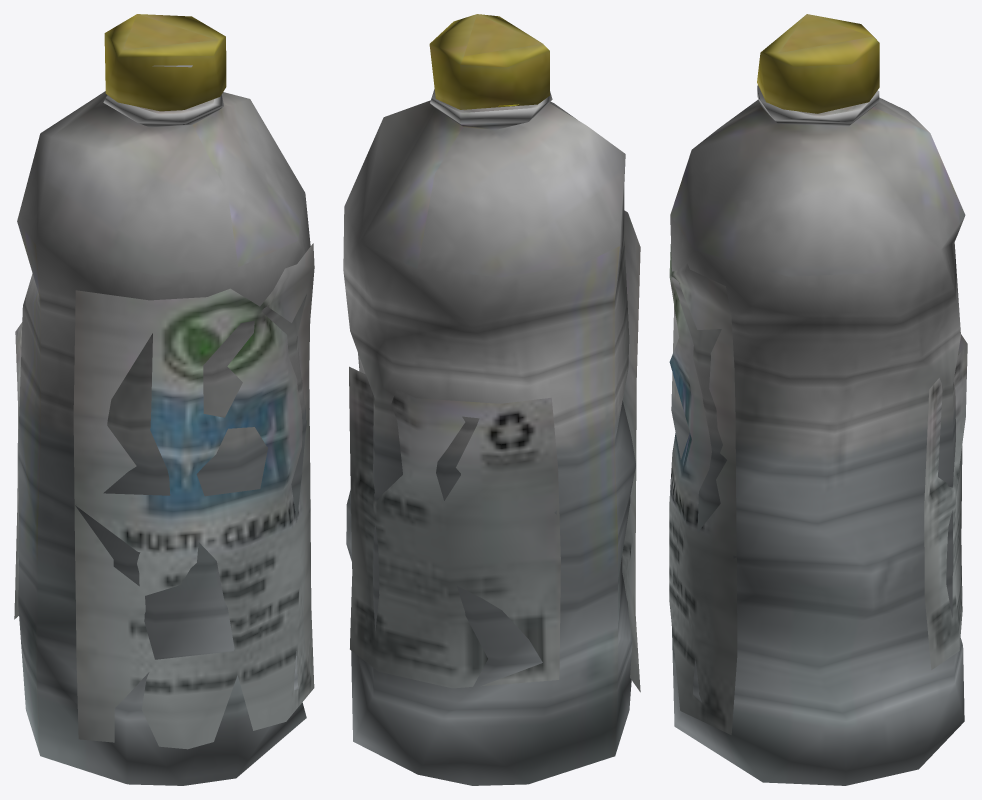
The model's file is multi_cleaner_bottle.glb.
The picture shows the model from 3 angles, left to right: view 1: azimuth 30°, elevation 25°; view 2: azimuth 150°, elevation 25°; view 3: azimuth 270°, elevation 25°; orthographic projection.
Visible parts, largest first — view 1: multi_cleaner_bottle, multi_cleaner_bottle_sticker; view 2: multi_cleaner_bottle, multi_cleaner_bottle_sticker; view 3: multi_cleaner_bottle, multi_cleaner_bottle_sticker.
Boxes of the visible parts, x1=… form: multi_cleaner_bottle: x1=17, y1=14, x2=310, y2=785; multi_cleaner_bottle_sticker: x1=14, y1=243, x2=314, y2=749; multi_cleaner_bottle: x1=343, y1=14, x2=635, y2=785; multi_cleaner_bottle_sticker: x1=349, y1=210, x2=640, y2=692; multi_cleaner_bottle: x1=670, y1=14, x2=965, y2=785; multi_cleaner_bottle_sticker: x1=669, y1=244, x2=967, y2=734.
Size of the model in its own units: 0.0879 by 0.227 by 0.089.
Materials: 1 (1 with a texture image).
